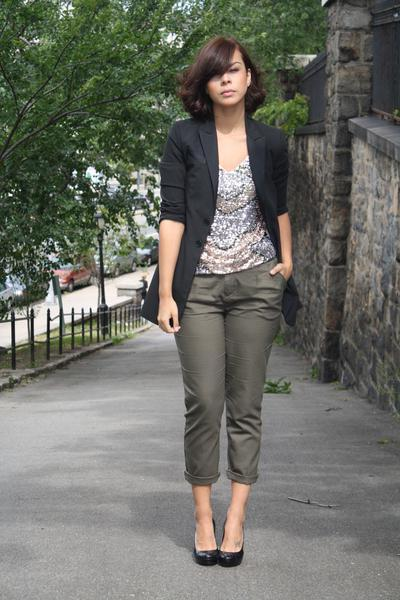jacket: (133, 115, 306, 328)
short sleeve shirt: (180, 147, 282, 275)
trousers: (178, 259, 289, 488)
